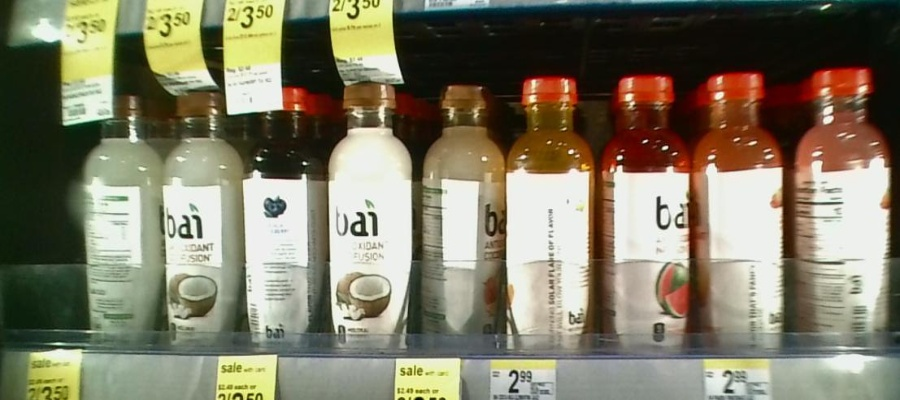bottle: (792, 69, 899, 358), (693, 73, 786, 350), (508, 65, 597, 350), (602, 76, 691, 351), (415, 81, 506, 348), (245, 83, 328, 345), (334, 84, 411, 347), (165, 92, 241, 346), (85, 95, 162, 340)
